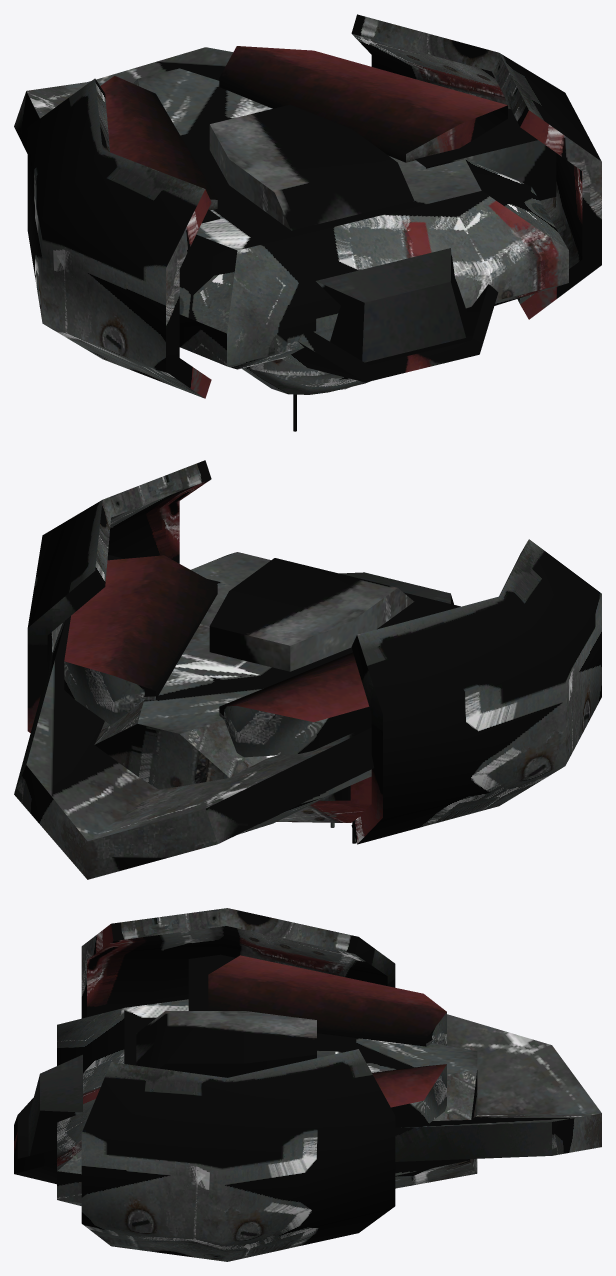
Rendered from TypeV.fbx.
3 renders of one model, top to bottom at view 1: azimuth 30°, elevation 25°; view 2: azimuth 150°, elevation 25°; view 3: azimuth 270°, elevation 25°, orthographic. The views are drawn at different scales.
Parts seen in each view (by area): view 1: PipelineFBX; view 2: PipelineFBX; view 3: PipelineFBX.
Boxes of the visible parts, x1=… form: PipelineFBX: x1=14, y1=14, x2=601, y2=431; PipelineFBX: x1=14, y1=460, x2=601, y2=879; PipelineFBX: x1=14, y1=908, x2=601, y2=1261.
Bounding box in the file's own units: 193 × 108 × 214.
1 material, 1 textured.
